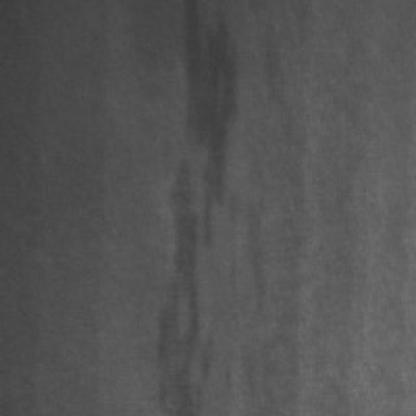inclusion: (158, 0, 244, 406)
